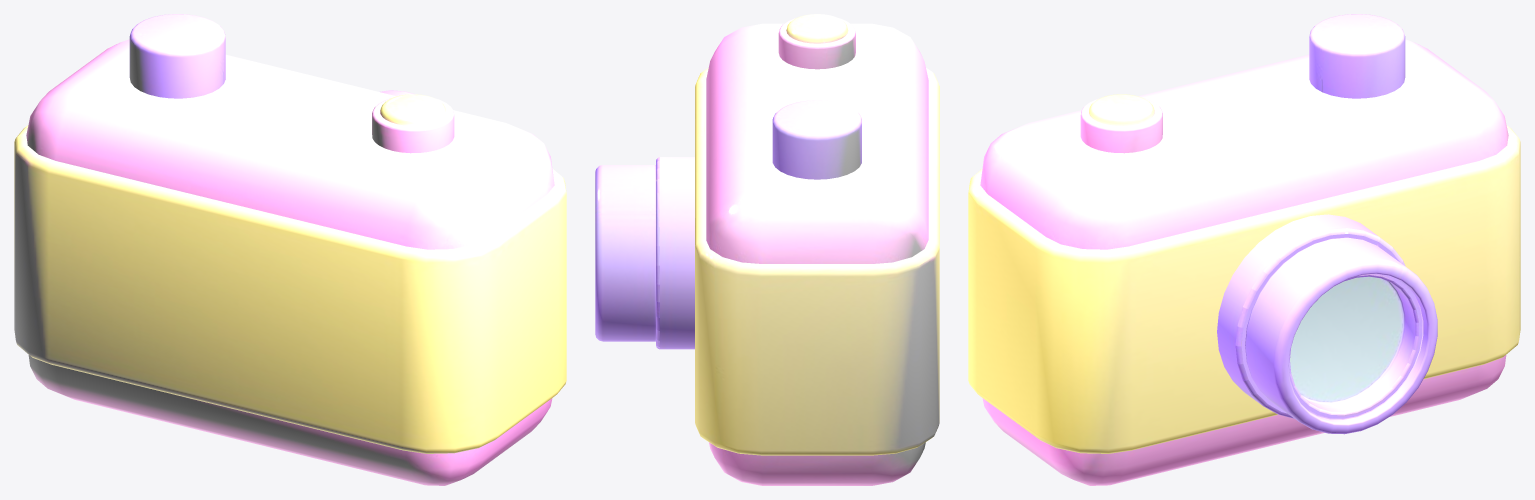
Rendered from camera.gltf.
The picture shows the model from 3 angles, left to right: view 1: azimuth 30°, elevation 25°; view 2: azimuth 150°, elevation 25°; view 3: azimuth 270°, elevation 25°; orthographic projection. The views are drawn at different scales.
Parts seen in each view (by area): view 1: Cube.1, Cylinder.3, Cylinder.2; view 2: Cube.1, Cylinder.1, Cylinder.3, Cylinder.2; view 3: Cube.1, Cylinder.1, Cylinder.3, Cylinder.2.
Part boxes in pixels (x1=…): Cube.1: x1=14, y1=39, x2=566, y2=485; Cylinder.3: x1=129, y1=14, x2=225, y2=98; Cylinder.2: x1=372, y1=94, x2=454, y2=153; Cube.1: x1=695, y1=23, x2=939, y2=485; Cylinder.1: x1=595, y1=157, x2=694, y2=349; Cylinder.3: x1=772, y1=100, x2=861, y2=179; Cylinder.2: x1=778, y1=14, x2=855, y2=69; Cube.1: x1=968, y1=39, x2=1520, y2=485; Cylinder.1: x1=1217, y1=214, x2=1437, y2=434; Cylinder.3: x1=1309, y1=14, x2=1405, y2=98; Cylinder.2: x1=1080, y1=94, x2=1162, y2=153.
Size of the model in its own units: 161 by 133 by 187.
